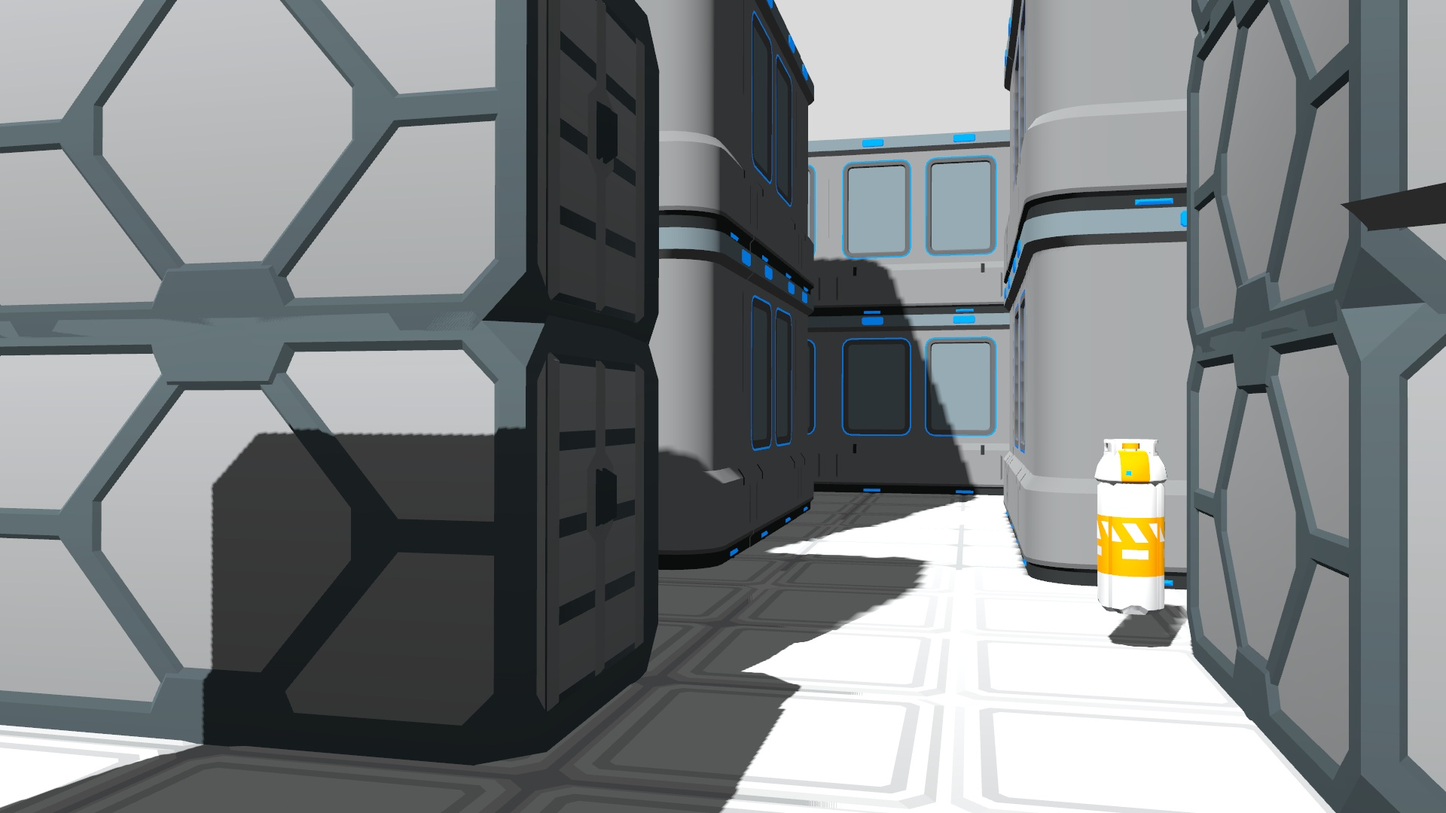yellow_barrel: (1093, 429, 1173, 616)
